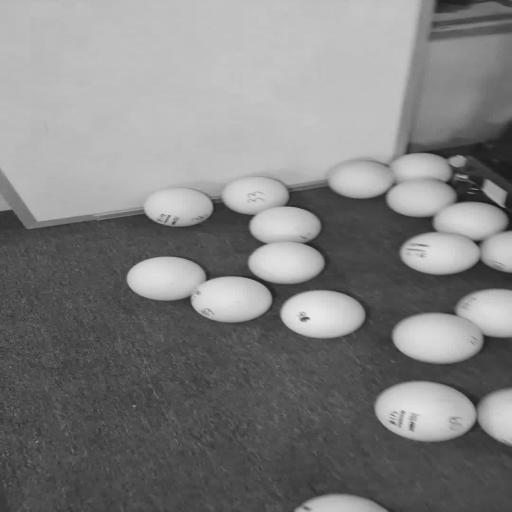fuel: (375, 381, 476, 442), (392, 313, 484, 364), (280, 290, 366, 338), (191, 277, 272, 322), (127, 257, 206, 301), (400, 232, 480, 275), (248, 242, 325, 284), (433, 202, 509, 242), (144, 187, 213, 227), (456, 289, 512, 338), (386, 179, 457, 217), (249, 206, 321, 243), (221, 177, 289, 215), (328, 161, 394, 199), (477, 387, 512, 446), (390, 152, 452, 183), (294, 494, 388, 512), (481, 230, 512, 273)
